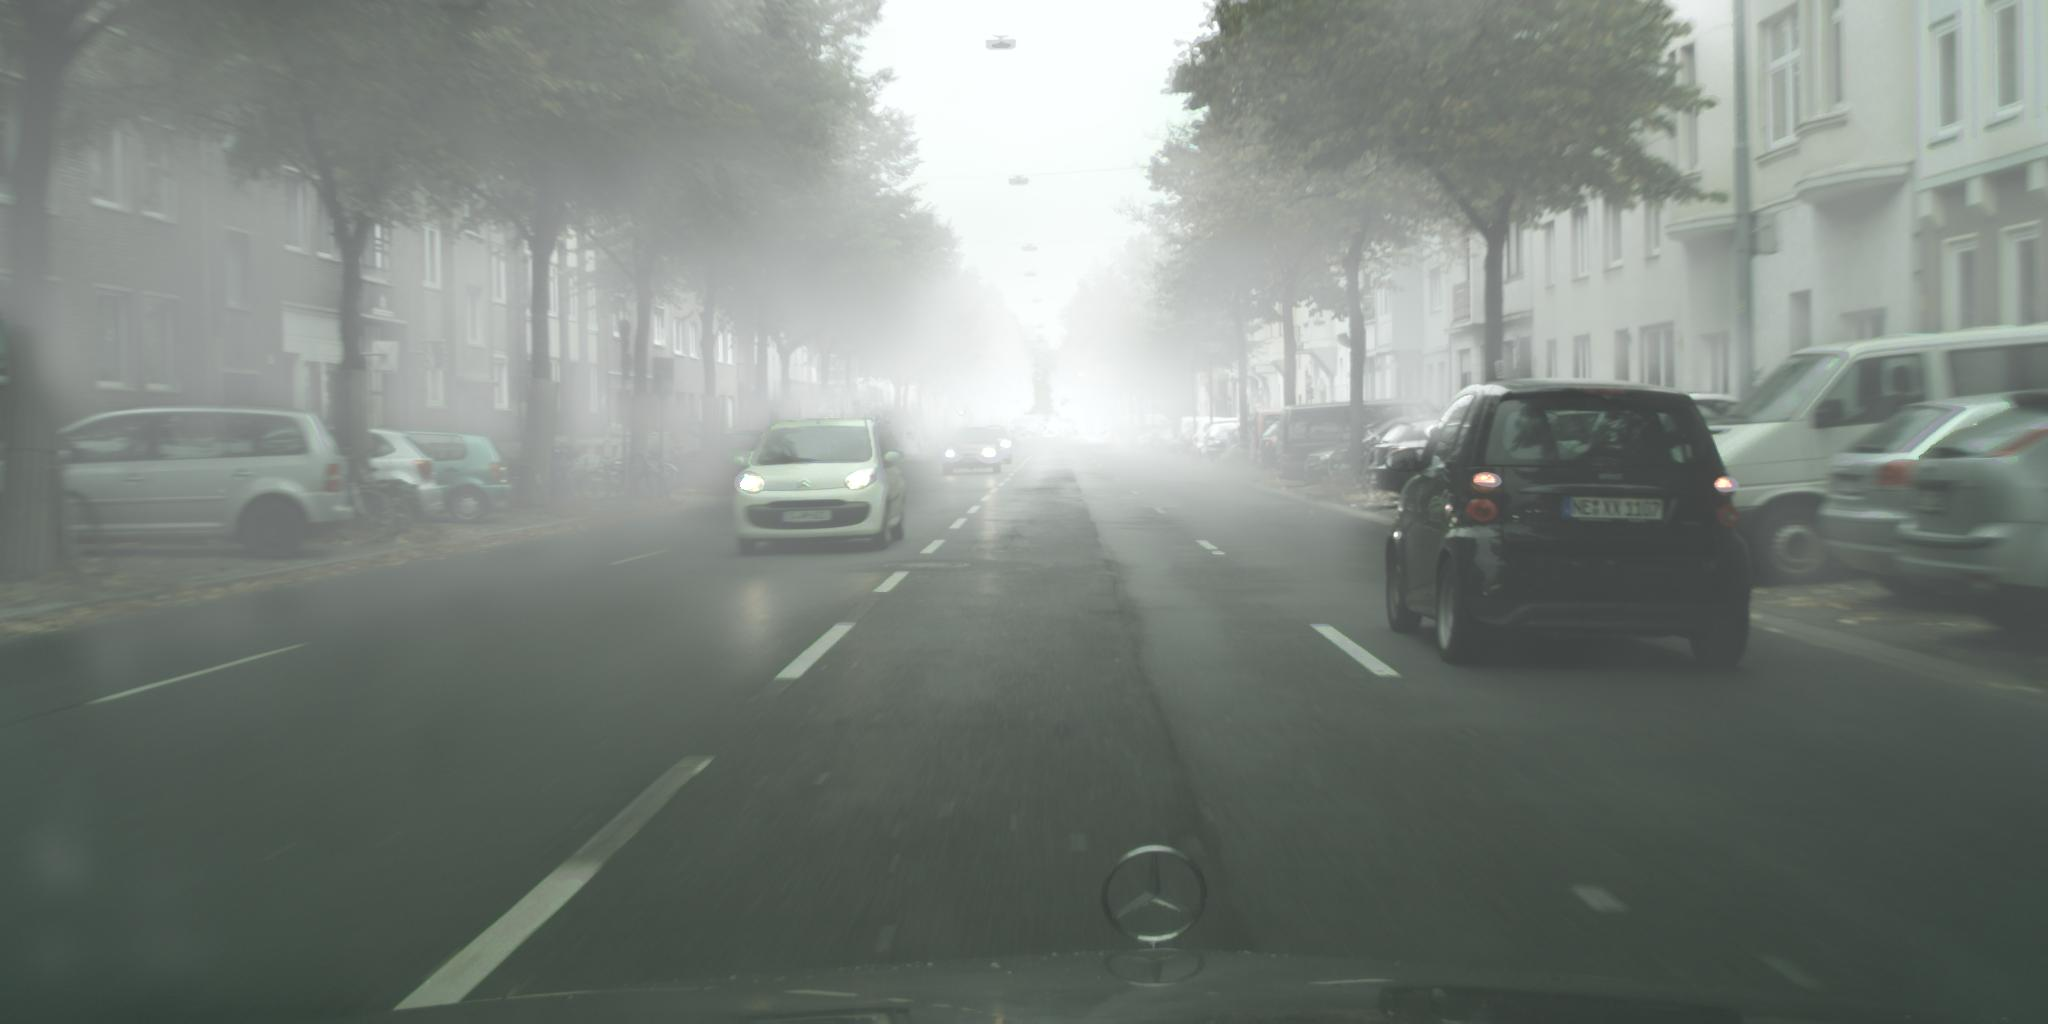bicycle: (327, 443, 394, 546), (50, 488, 116, 580), (576, 451, 669, 504), (1326, 424, 1388, 486), (500, 464, 543, 509)
car: (1384, 377, 1752, 671), (1695, 323, 2048, 586), (1819, 388, 2048, 606), (37, 405, 357, 559), (1894, 387, 2048, 644), (731, 417, 908, 559), (269, 423, 443, 526), (1279, 398, 1450, 487), (1127, 283, 1211, 443), (1304, 413, 1458, 488), (391, 431, 515, 525), (1364, 410, 1468, 502), (1678, 393, 1753, 464), (711, 428, 772, 479), (940, 428, 1004, 477), (1254, 406, 1300, 468), (1190, 415, 1243, 461), (1115, 411, 1178, 448), (1262, 415, 1304, 469), (1128, 423, 1179, 455), (977, 424, 1014, 465), (1118, 424, 1162, 448)
motorcycle: (543, 439, 581, 504)
